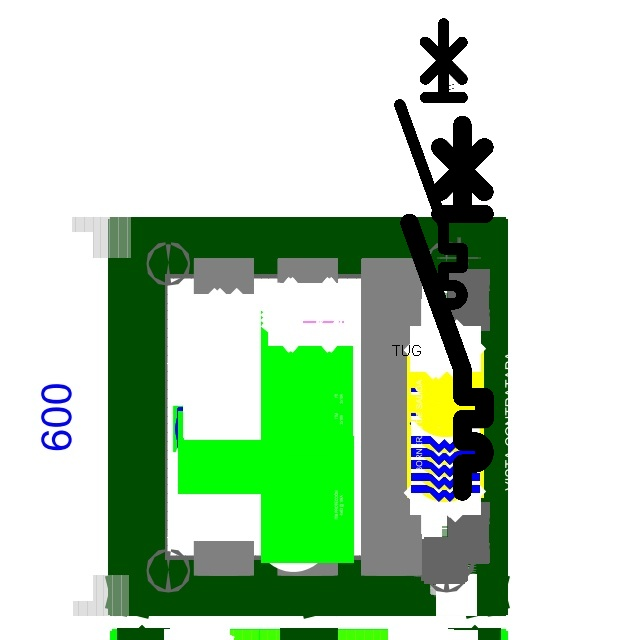interruptor_termomagnetico: (400, 115, 494, 501), (392, 16, 470, 335)
